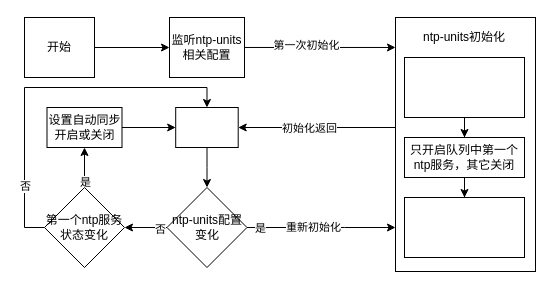
Image size: 553x289. Some labels were removed from this diagram. The box of each missing label's shape, as (x1, y1, x2, y2) in pixels:
调用systemd的LoadUnit加载所有ntp服务，返回成功则放入ntp队列: (404, 56, 524, 118)
进入主循环: (175, 106, 238, 148)
通过dbus监听第一个ntp服务状态变化: (404, 196, 524, 258)
